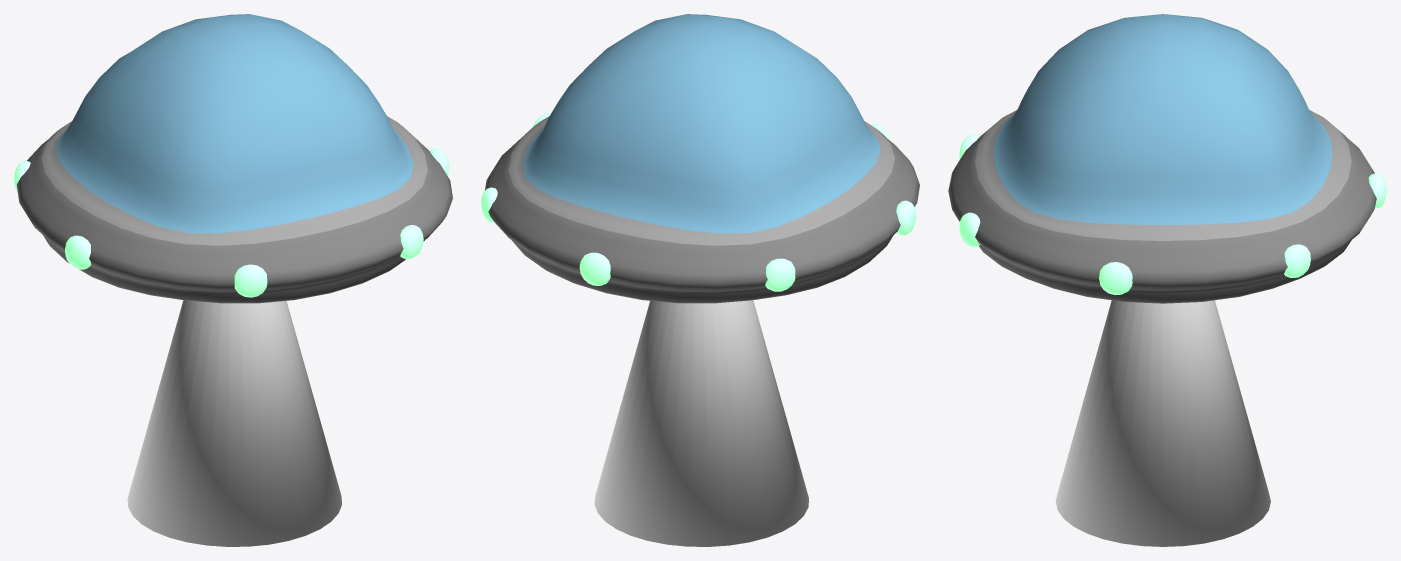
File: UFO.fbx
3 renders of one model, left to right at view 1: azimuth 30°, elevation 25°; view 2: azimuth 150°, elevation 25°; view 3: azimuth 270°, elevation 25°, orthographic.
Parts seen in each view (by area): view 1: Cylinder; view 2: Cylinder; view 3: Cylinder.
Part boxes in pixels (bbox=[...]): Cylinder: bbox=[14, 14, 452, 546]; Cylinder: bbox=[481, 14, 919, 546]; Cylinder: bbox=[948, 14, 1386, 546].
Bounding box in the file's own units: 4.07 × 4.06 × 4.87.
